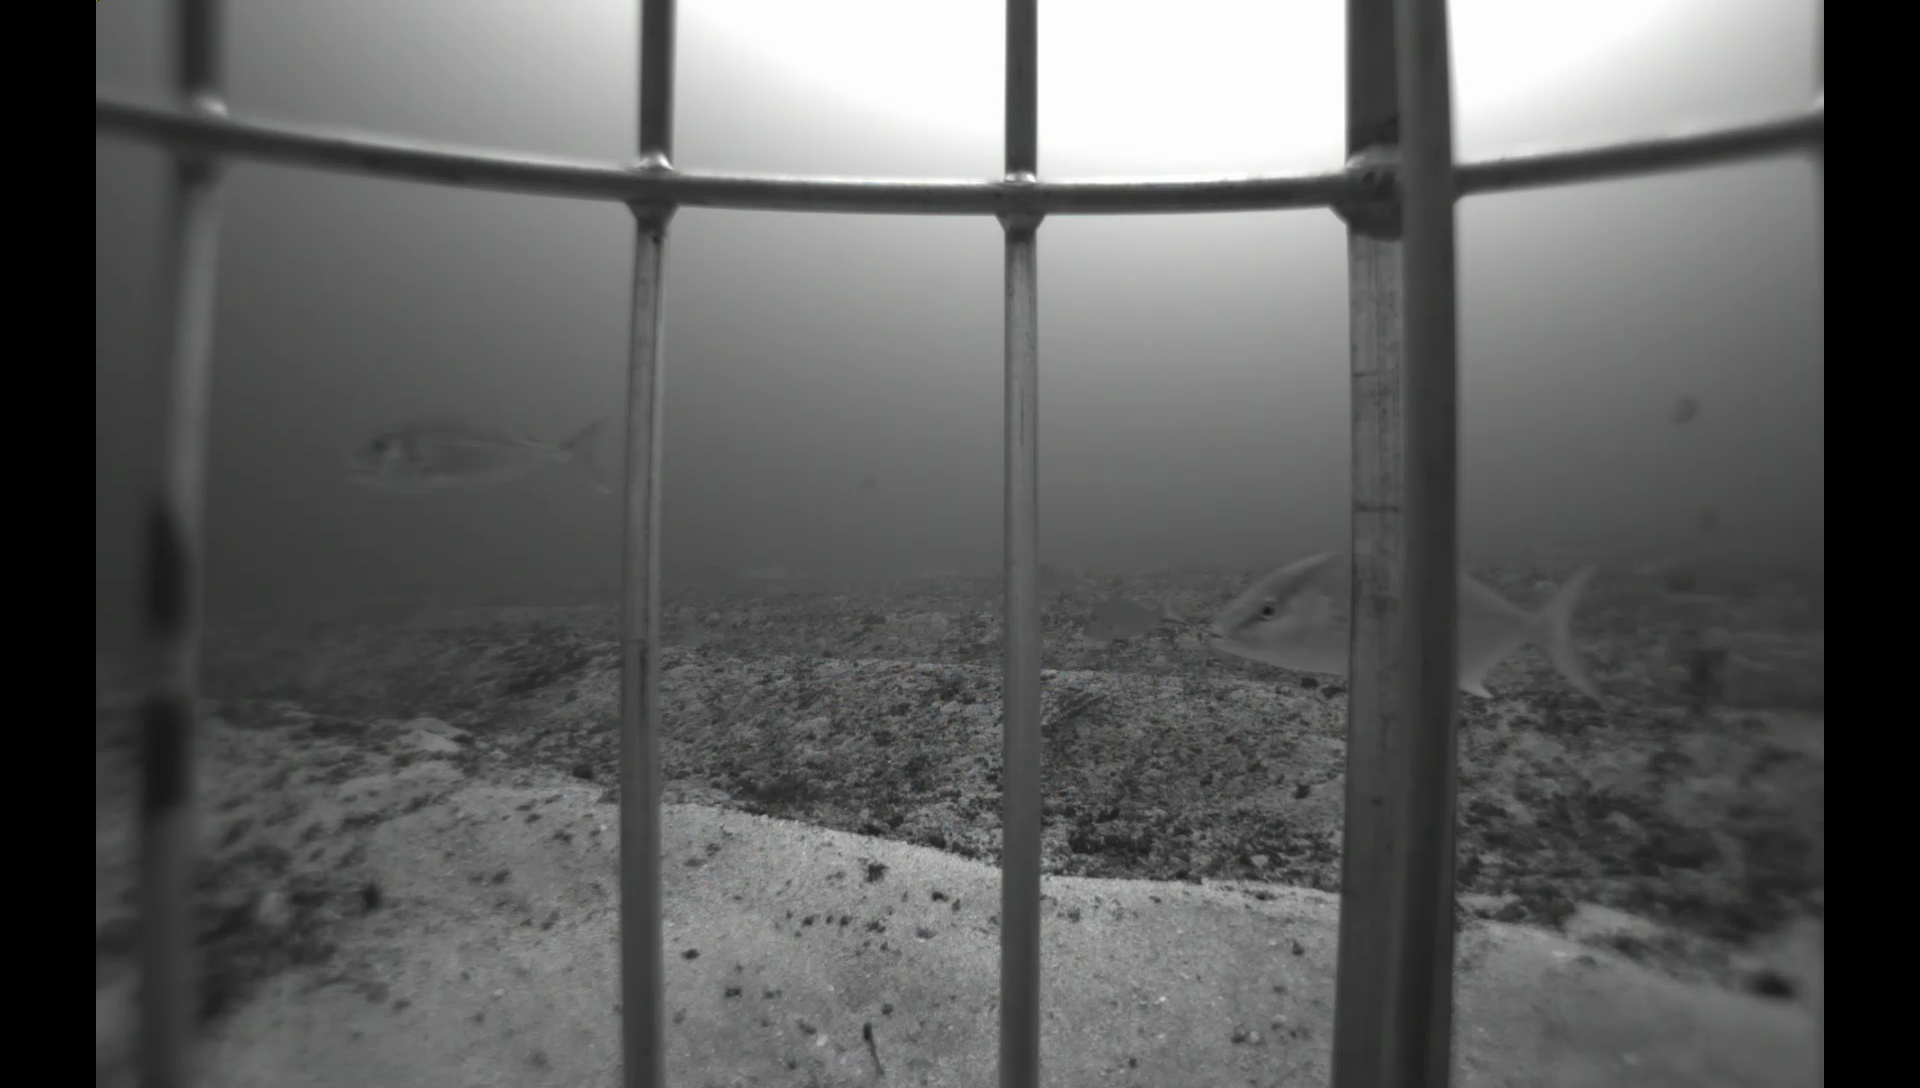CALAMUS-170210600: (1071, 583, 1184, 649), (1036, 560, 1091, 600)
EPINEPHELUSMORIO-170021211: (1672, 491, 1735, 550)
PAGRUSPAGRUS-170212302: (328, 404, 620, 508)
RHOMBOPLITESAURORUBENS-170152001: (1648, 382, 1716, 442), (851, 472, 880, 501)
SERIOLARIVOLIANA-170113105: (1185, 526, 1630, 725)
